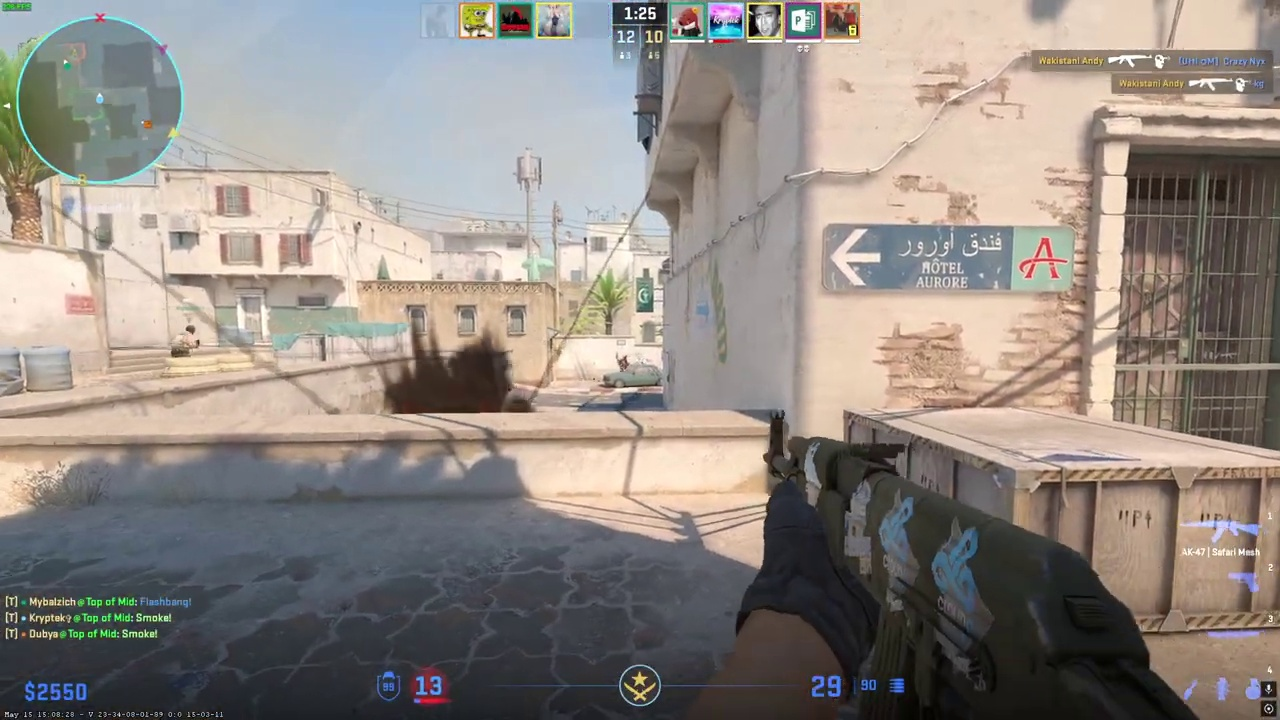Terrorist: (171, 325, 199, 358)
